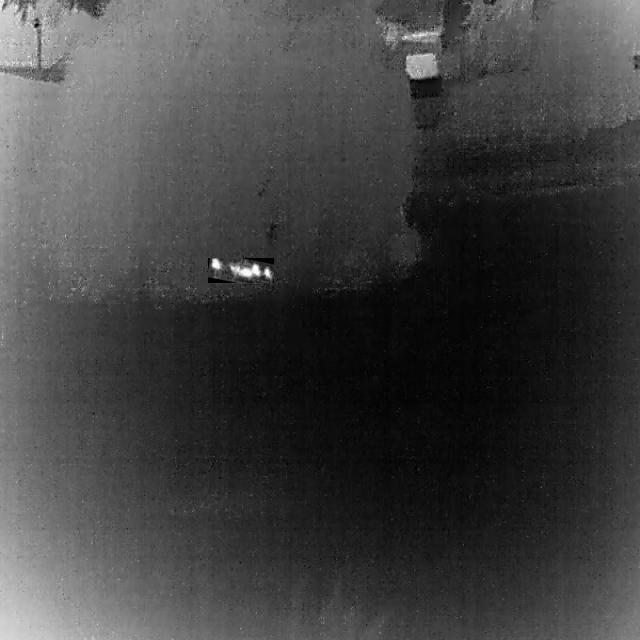drone: (208, 258, 274, 283)
